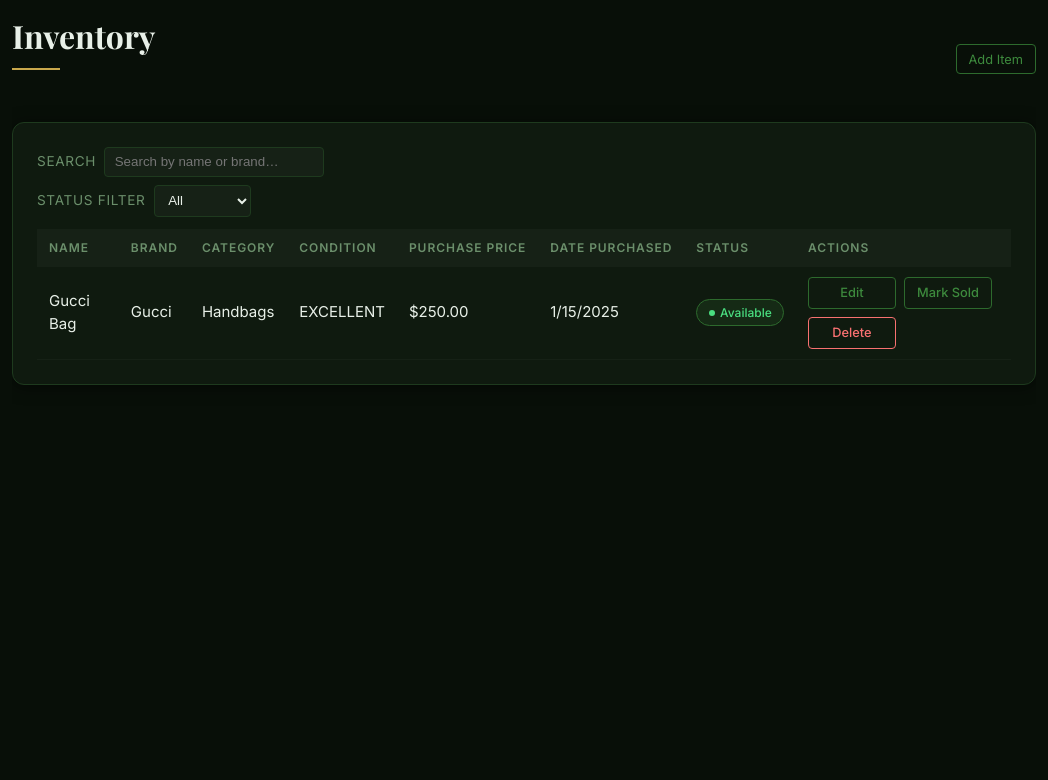
Scenario: InventoryPage › optimistic delete removes item immediately and shows undo toast
Expected: the text "Gucci Bag" is shown, [37,267,119,359]
Click Delete, then confirm
What coordinates should you click on to do the following:
click the button "Delete"
I would click on:
 (852, 333)
Its box is [808,317,896,349].
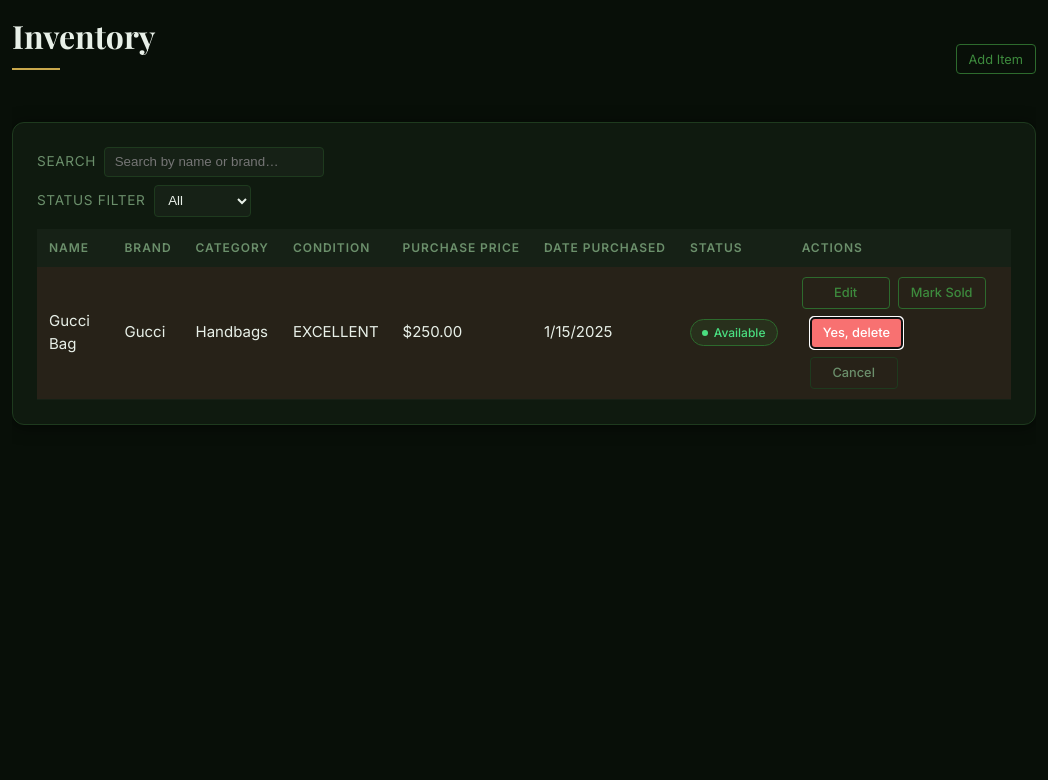
What coordinates should you click on to do the following:
click the button "Yes, delete"
I would click on:
 (856, 333)
Its box is [810,317,903,349].
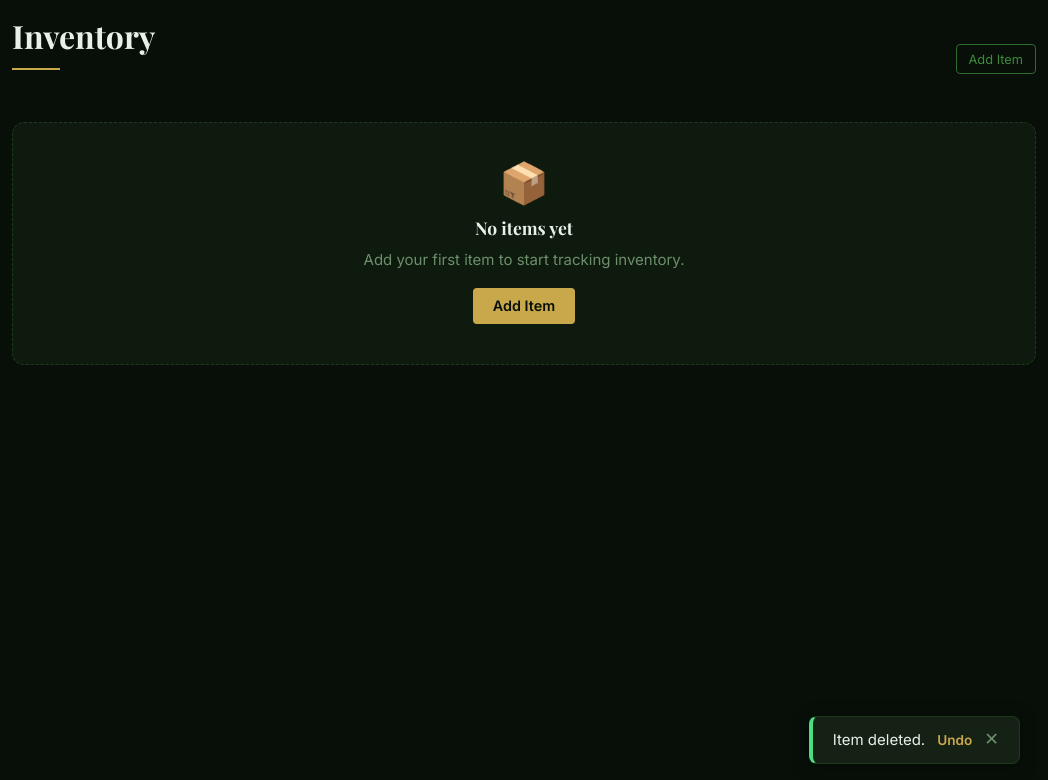
Now the text "Gucci Bag" is gone
Now the text "Item deleted." is shown, box [833,728,925,751]
Now the button "Undo" is shown, box [937,732,972,748]
